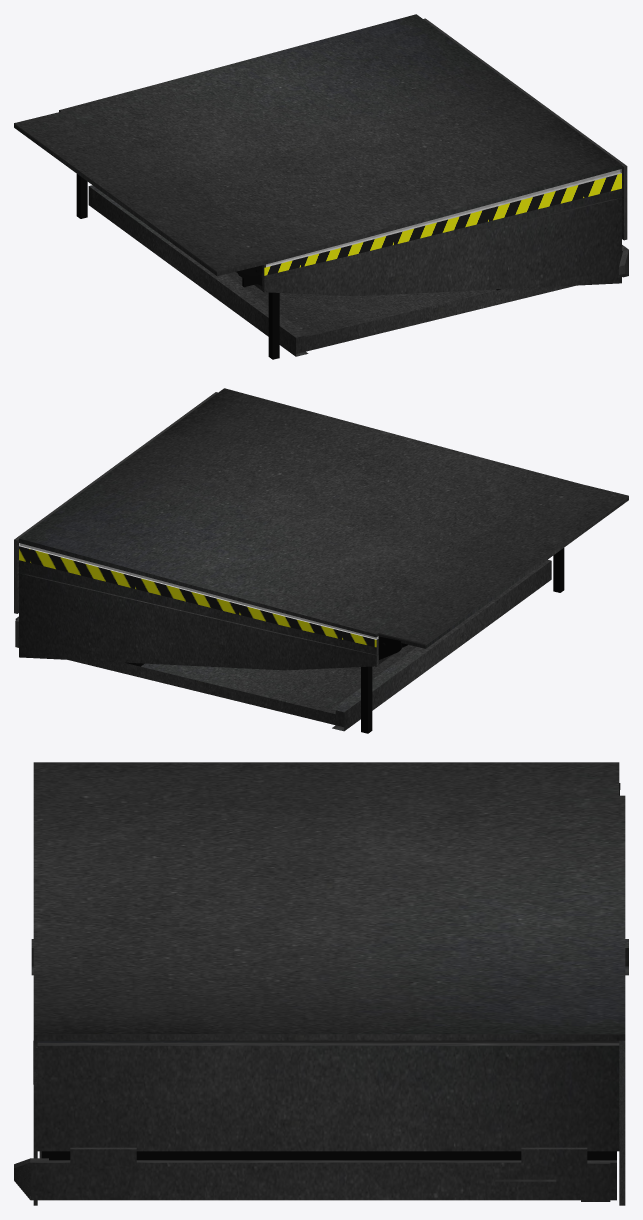
Rendered from dock_leveler_dlhh.glb.
3 renders of one model, top to bottom at view 1: azimuth 30°, elevation 25°; view 2: azimuth 150°, elevation 25°; view 3: azimuth 270°, elevation 25°, orthographic. The views are drawn at different scales.
Parts seen in each view (by area): view 1: pCube55, pCube4, pCube1, pCube6, pCube7; view 2: pCube55, pCube4, pCube1, pCube7, pCube6; view 3: pCube55, pCube1, pCube4, pCube82, pCube2, pCube3, pCube83.
Part boxes in pixels (x1=…): pCube55: x1=14, y1=14, x2=621, y2=296; pCube4: x1=88, y1=185, x2=628, y2=356; pCube1: x1=423, y1=18, x2=627, y2=240; pCube6: x1=268, y1=292, x2=279, y2=359; pCube7: x1=76, y1=174, x2=87, y2=218; pCube55: x1=19, y1=388, x2=628, y2=670; pCube4: x1=15, y1=559, x2=551, y2=731; pCube1: x1=14, y1=392, x2=217, y2=613; pCube7: x1=361, y1=666, x2=372, y2=733; pCube6: x1=553, y1=548, x2=564, y2=592; pCube55: x1=33, y1=762, x2=625, y2=1205; pCube1: x1=37, y1=1043, x2=619, y2=1151; pCube4: x1=31, y1=939, x2=628, y2=1201; pCube82: x1=41, y1=1151, x2=616, y2=1160; pCube2: x1=70, y1=1147, x2=136, y2=1165; pCube3: x1=521, y1=1147, x2=587, y2=1165; pCube83: x1=14, y1=1158, x2=48, y2=1200.
Bounding box in the file's own units: 4.25 × 1.17 × 3.79.
7 materials, 4 textured.
